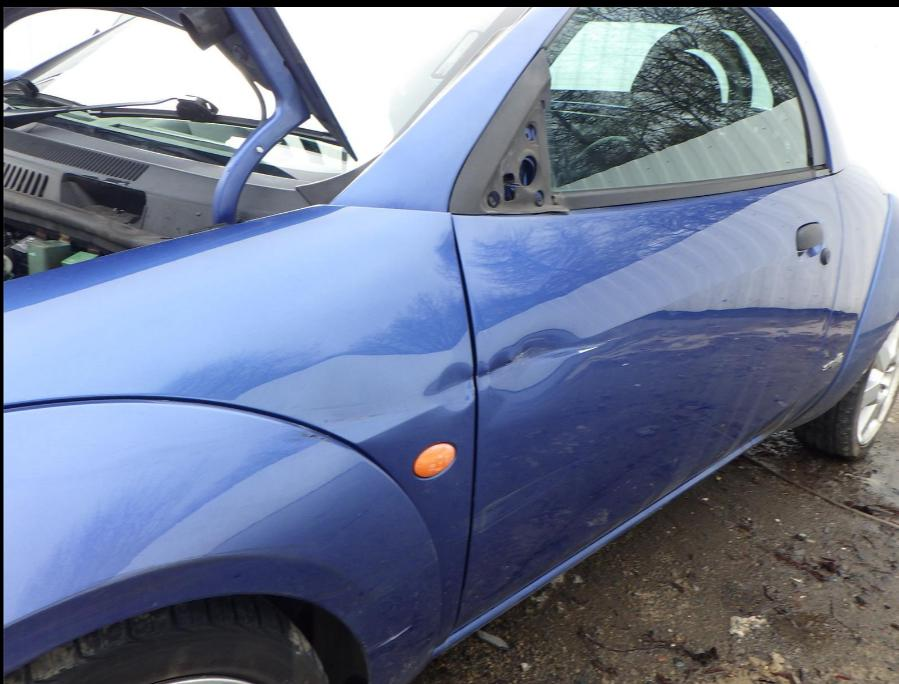Dent: (422, 325, 615, 414)
Scratch: (561, 306, 858, 387), (374, 618, 414, 654)
broken_mirror: (481, 78, 569, 216)
